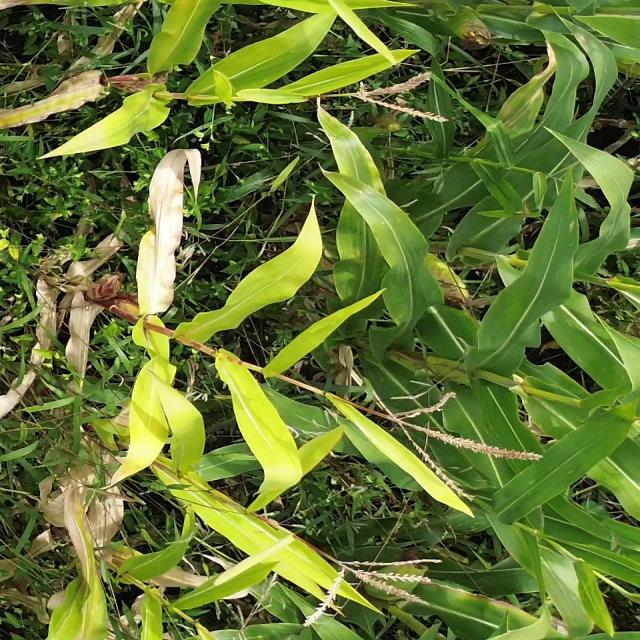northern-leaf-blight: (51, 493, 133, 640), (486, 28, 564, 166), (0, 68, 118, 131)
southern-leaf-blight: (332, 161, 428, 310), (446, 454, 587, 543)
